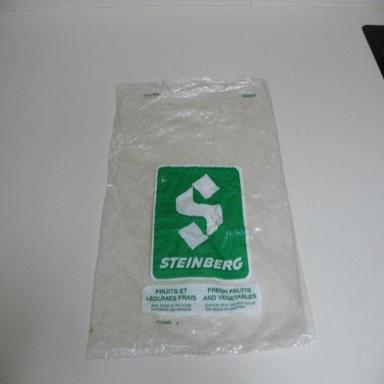plasticbag: (86, 76, 318, 360)
